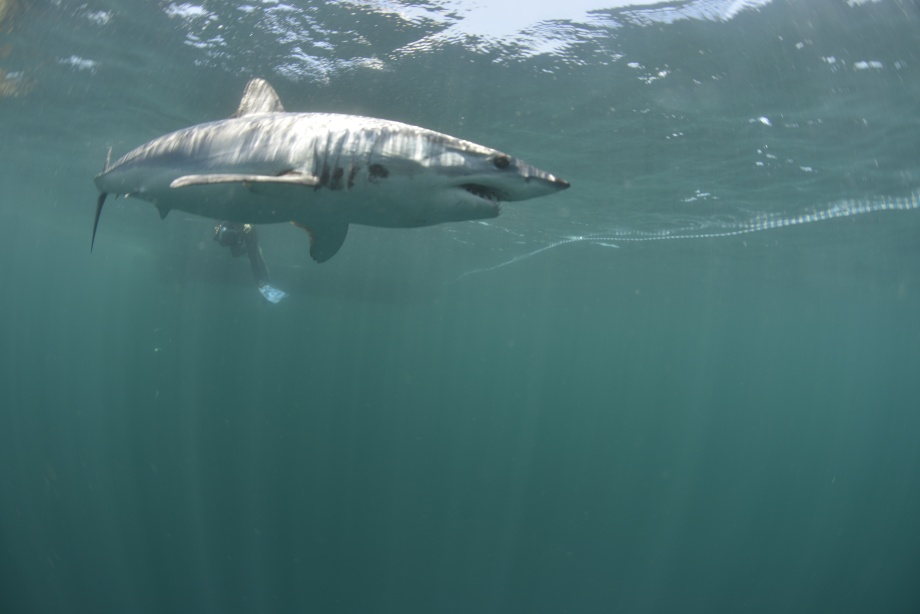Mako: (78, 64, 580, 286)
